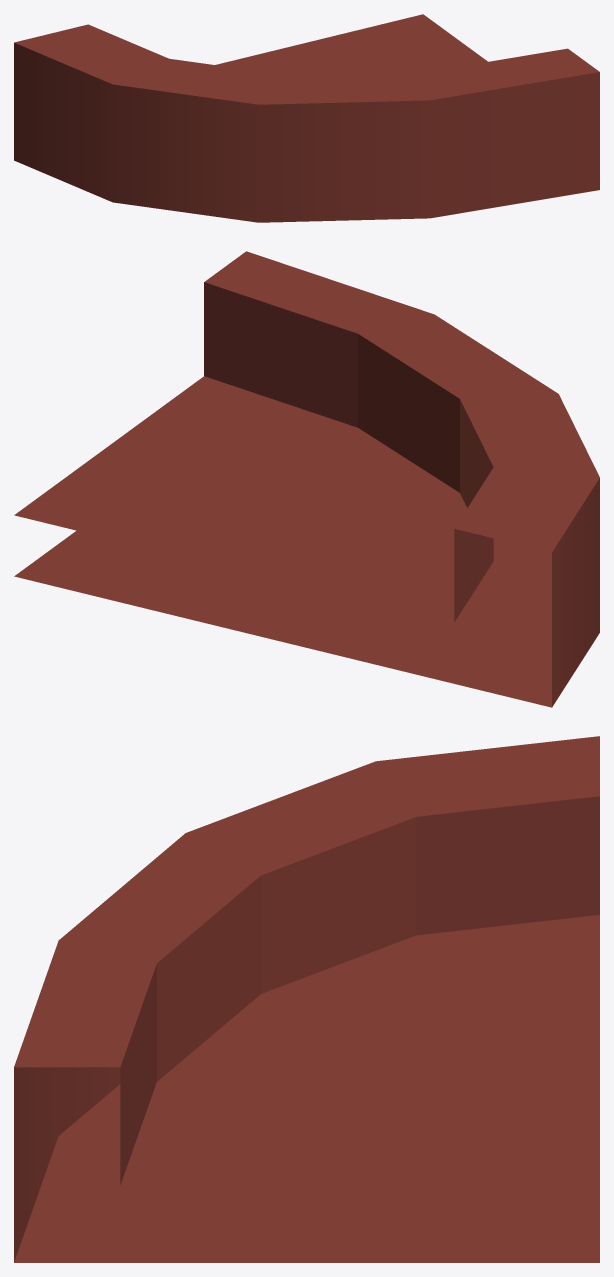
The model's file is graden.fbx.
The picture shows the model from 3 angles, top to bottom: view 1: azimuth 30°, elevation 25°; view 2: azimuth 150°, elevation 25°; view 3: azimuth 270°, elevation 25°; orthographic projection. The views are drawn at different scales.
Visible parts, largest first — view 1: graden; view 2: graden; view 3: graden.
Boxes of the visible parts, left/top/right/bottom form: graden: left=14, top=14, right=599, bottom=222; graden: left=14, top=251, right=599, bottom=707; graden: left=14, top=736, right=599, bottom=1262.
Size of the model in its own units: 296 by 81.57 by 221.
